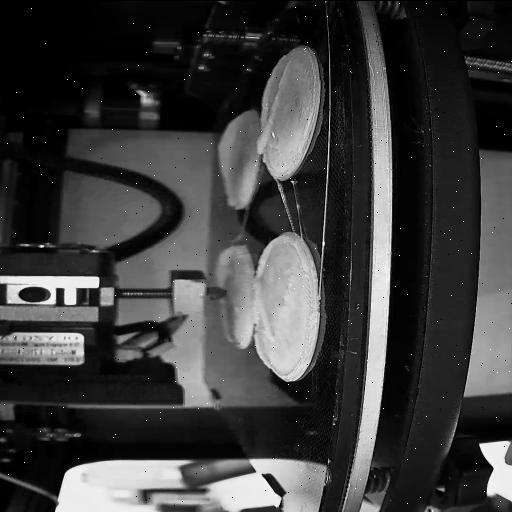over_extrusion: (254, 60, 290, 154), (254, 234, 308, 278), (218, 116, 240, 206), (256, 296, 276, 369), (214, 243, 248, 284)
